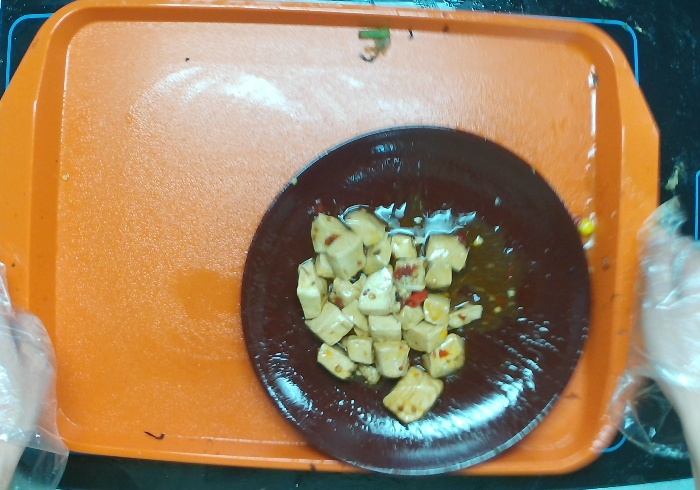HZYJPL-Ka_Fei_Yuan_Pan: (238, 124, 592, 477)
